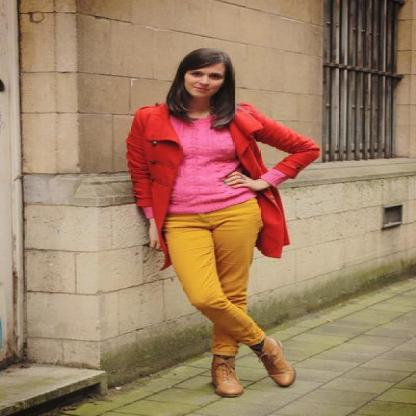jacket: (122, 102, 319, 270)
pants: (166, 198, 262, 357)
shirt: (150, 118, 236, 213)
shoe: (209, 328, 313, 392)
